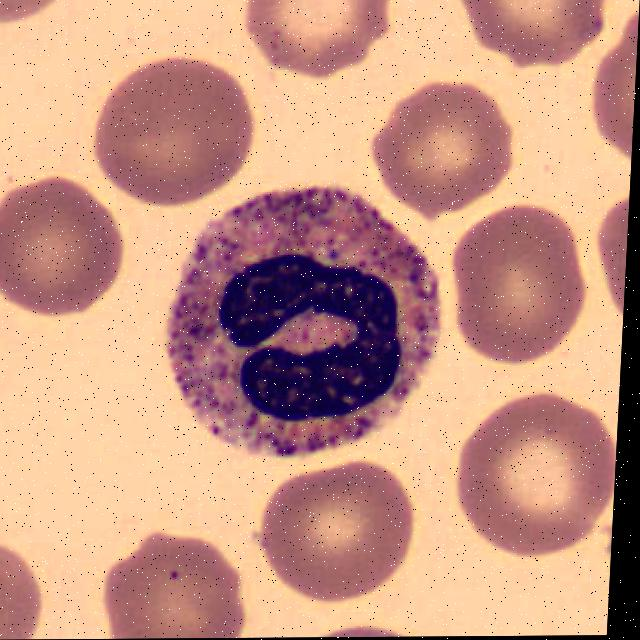neutrophil: (150, 184, 454, 461)
rbc: (246, 451, 433, 603), (85, 47, 262, 206), (456, 389, 620, 548), (445, 189, 588, 356), (90, 512, 259, 639), (0, 161, 131, 320), (367, 86, 525, 215), (240, 0, 400, 86), (440, 0, 616, 76), (577, 2, 640, 163), (0, 521, 56, 640), (594, 190, 630, 319)
